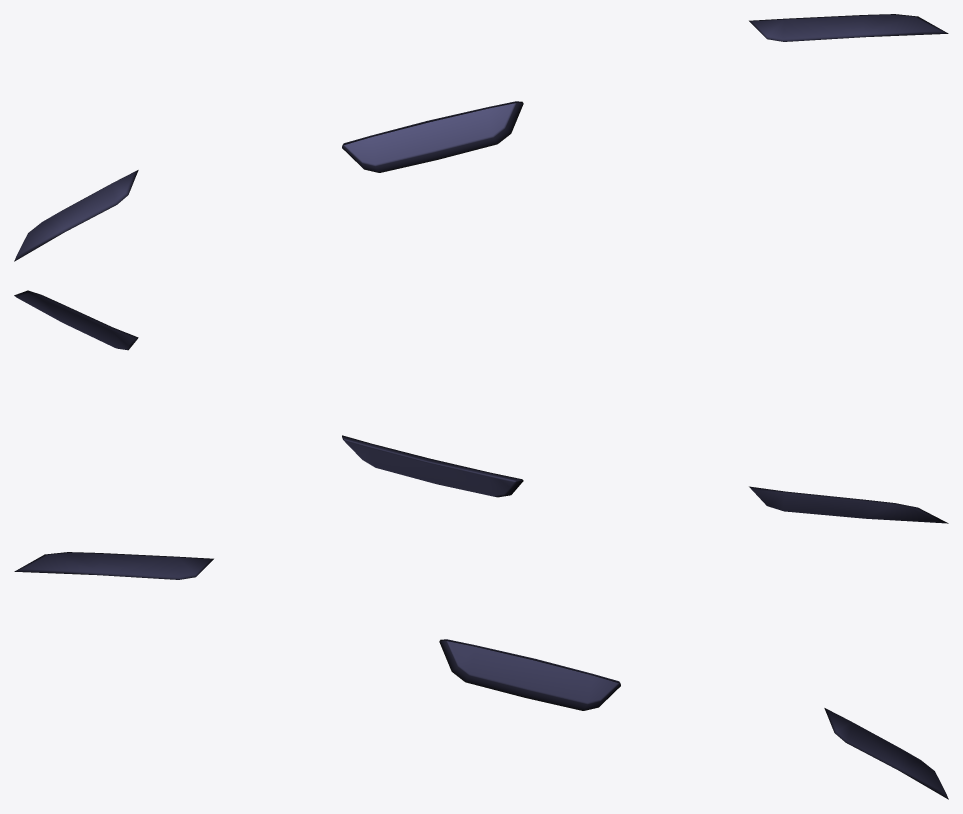
File: Mustang16_RB_01_Detail.fbx
3 renders of one model, top to bottom at view 1: azimuth 30°, elevation 25°; view 2: azimuth 150°, elevation 25°; view 3: azimuth 330°, elevation 25°, orthographic.
Visible parts, largest first — view 1: Mustang16_RB_01_Detail; view 2: Mustang16_RB_01_Detail; view 3: Mustang16_RB_01_Detail.
Boxes of the visible parts, box(x1,y1,x2,y2) form: Mustang16_RB_01_Detail: box(14, 14, 948, 261); Mustang16_RB_01_Detail: box(14, 290, 948, 523); Mustang16_RB_01_Detail: box(14, 552, 948, 799).
Bounding box in the file's own units: 145 × 10.15 × 14.54.
